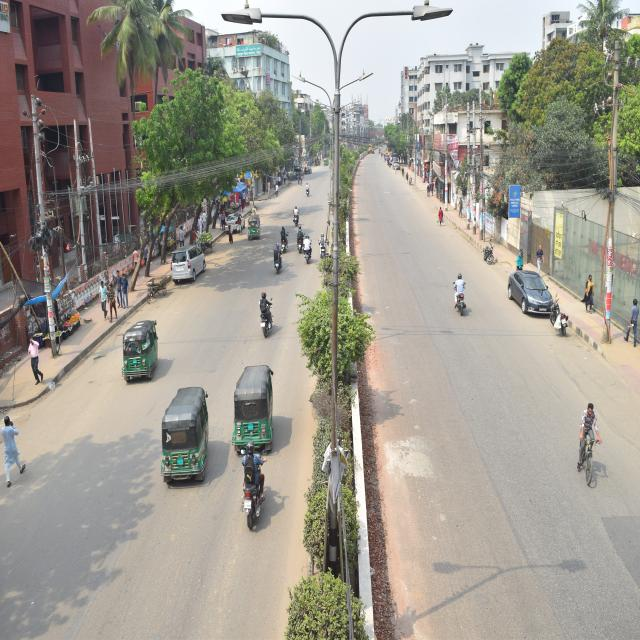car: (504, 263, 558, 320), (224, 205, 246, 235)
microbus: (168, 241, 210, 290)
motorbike: (239, 463, 271, 535), (544, 299, 571, 339), (449, 278, 472, 316), (257, 298, 274, 335), (477, 237, 498, 265), (303, 238, 317, 274), (274, 224, 290, 253), (271, 249, 285, 277), (292, 230, 306, 254), (290, 210, 301, 230)
